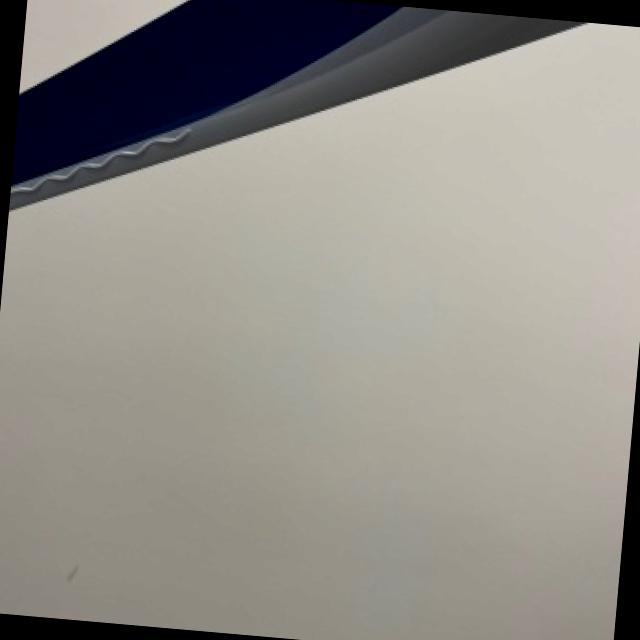healthy: (9, 0, 577, 207)
